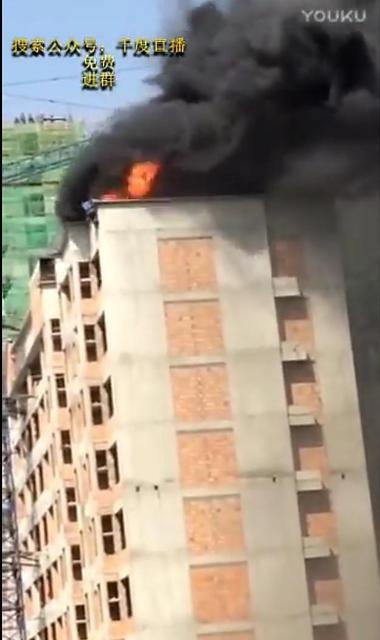fire: (126, 160, 156, 194)
